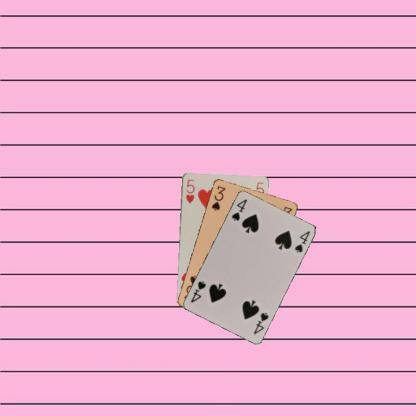3s: (209, 183, 227, 212)
4s: (228, 196, 249, 222), (251, 310, 270, 335)
5h: (183, 177, 196, 204)
